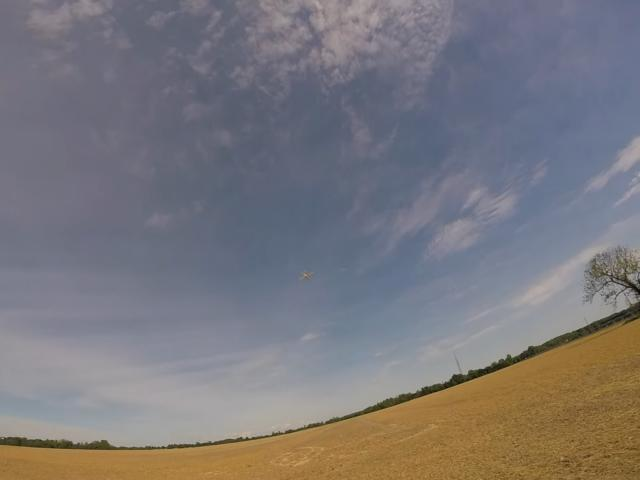plane: (299, 269, 314, 282)
